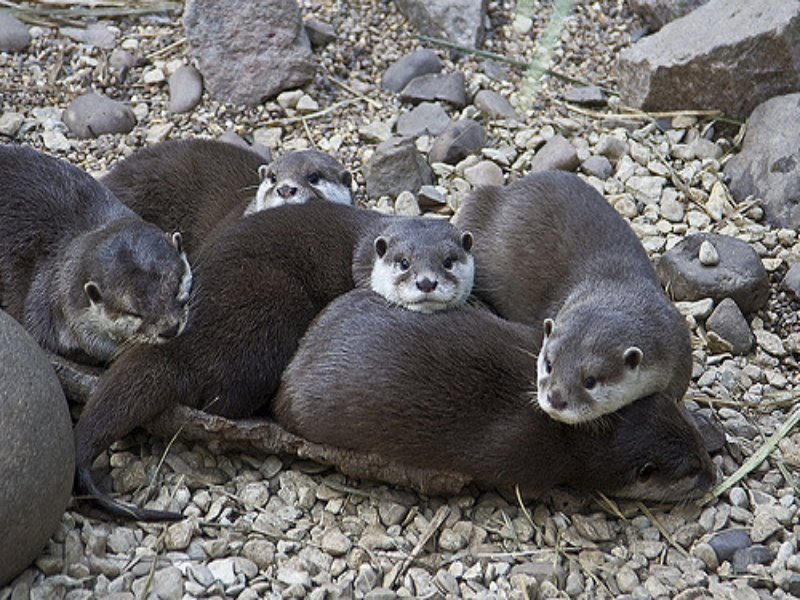minkish: (69, 214, 476, 513), (297, 291, 722, 533), (476, 166, 693, 432), (1, 144, 197, 355), (115, 143, 357, 237)
